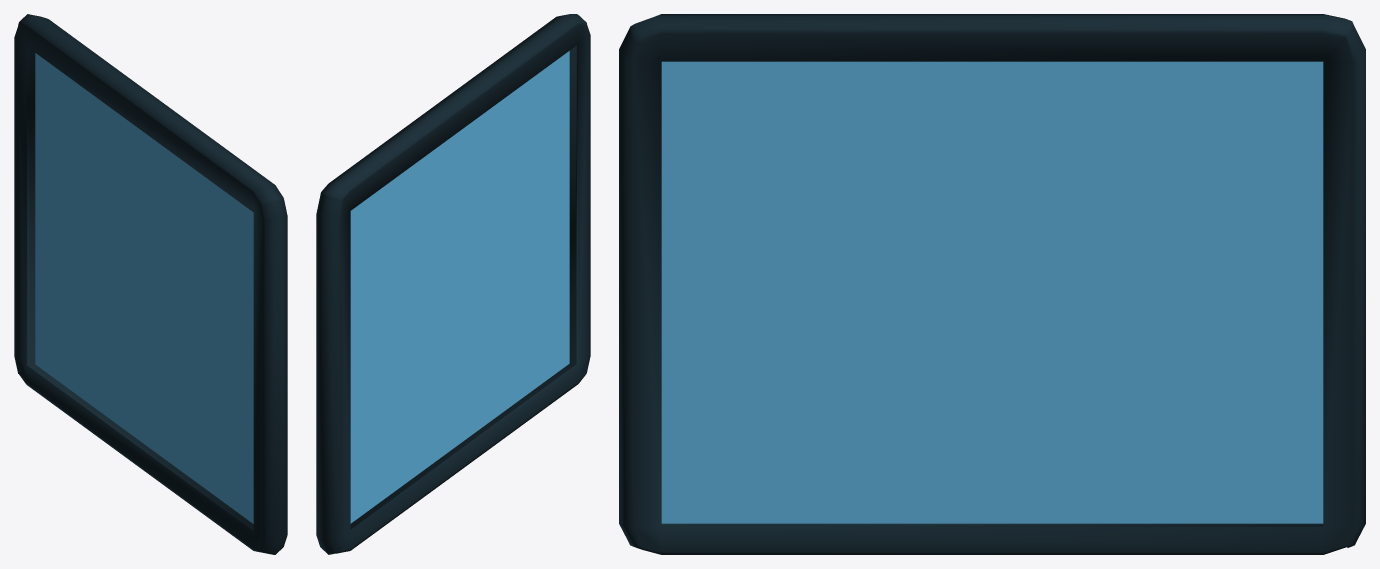
Rendered from Gate.fbx.
3 renders of one model, left to right at view 1: azimuth 30°, elevation 25°; view 2: azimuth 150°, elevation 25°; view 3: azimuth 270°, elevation 25°, orthographic. The views are drawn at different scales.
Parts seen in each view (by area): view 1: Gate; view 2: Gate; view 3: Gate.
Boxes of the visible parts, box(x1,y1,x2,y2) form: Gate: box(14, 14, 287, 554); Gate: box(316, 14, 590, 554); Gate: box(619, 14, 1365, 554).
Bounding box in the file's own units: 7.76 × 124 × 157.
